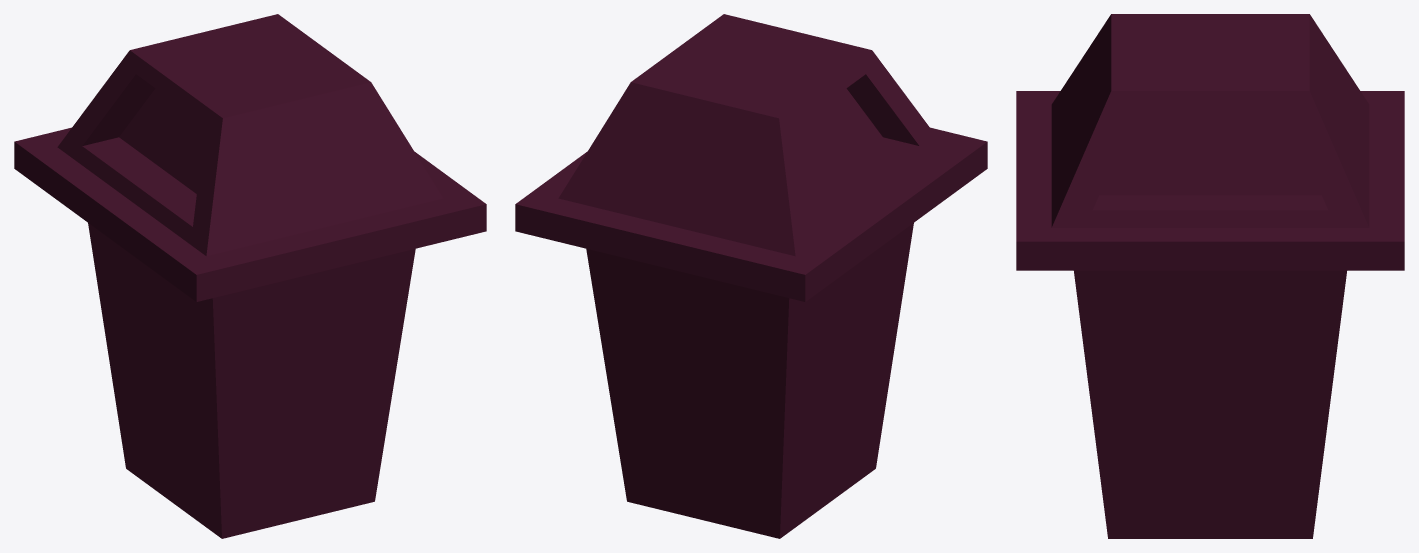
The model's file is TrashCan.fbx.
3 views of the same model, side by side, from view 1: azimuth 30°, elevation 25°; view 2: azimuth 150°, elevation 25°; view 3: azimuth 270°, elevation 25° (orthographic). The views are drawn at different scales.
Parts seen in each view (by area): view 1: Box030; view 2: Box030; view 3: Box030.
Part boxes in pixels (left/top/right/bottom): Box030: left=14, top=14, right=486, bottom=538; Box030: left=515, top=14, right=987, bottom=538; Box030: left=1016, top=14, right=1404, bottom=538.
Size of the model in its own units: 35.72 by 49.32 by 38.87.
